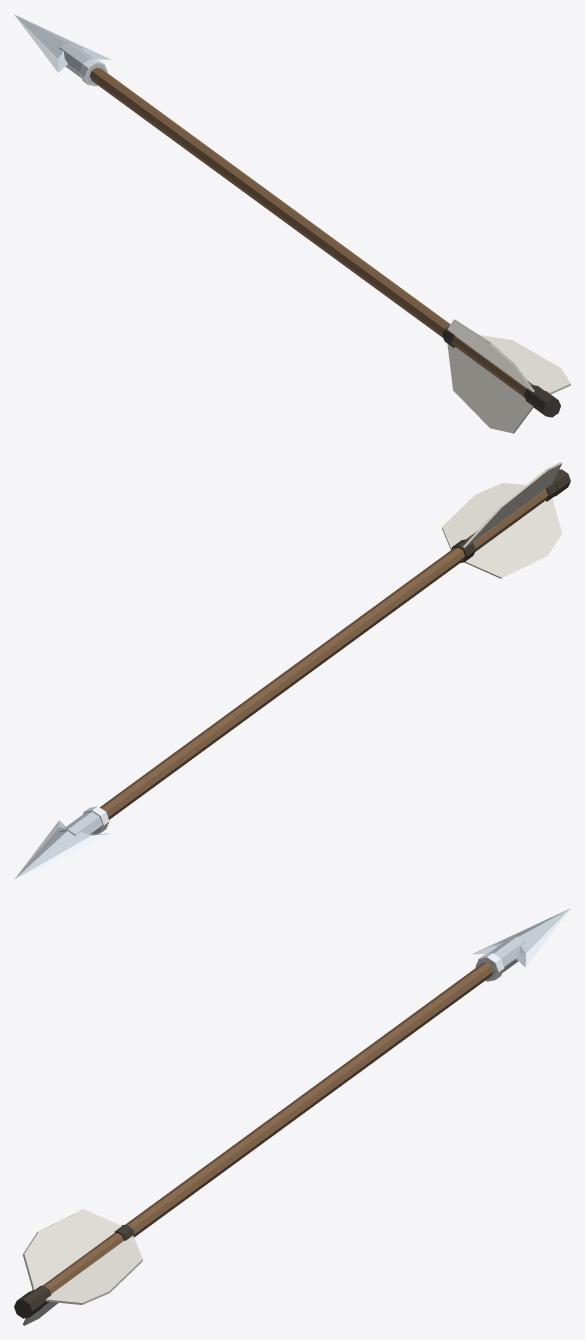
Rendered from steel_arrow-Br_yMKTm.glb.
3 views of the same model, one above another, from view 1: azimuth 30°, elevation 25°; view 2: azimuth 150°, elevation 25°; view 3: azimuth 330°, elevation 25° (orthographic).
Visible parts, largest first — view 1: Steel_Arrow; view 2: Steel_Arrow; view 3: Steel_Arrow.
Boxes of the visible parts, left/top/right/bottom form: Steel_Arrow: left=14, top=14, right=570, bottom=433; Steel_Arrow: left=14, top=462, right=570, bottom=879; Steel_Arrow: left=14, top=908, right=570, bottom=1325.
Bounding box in the file's own units: 0.115 × 0.1279 × 1.46.
